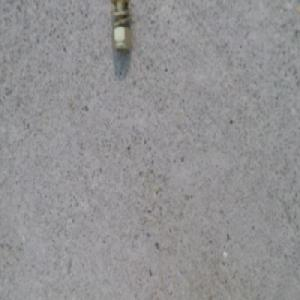BoltNutSet: (106, 8, 127, 64)
